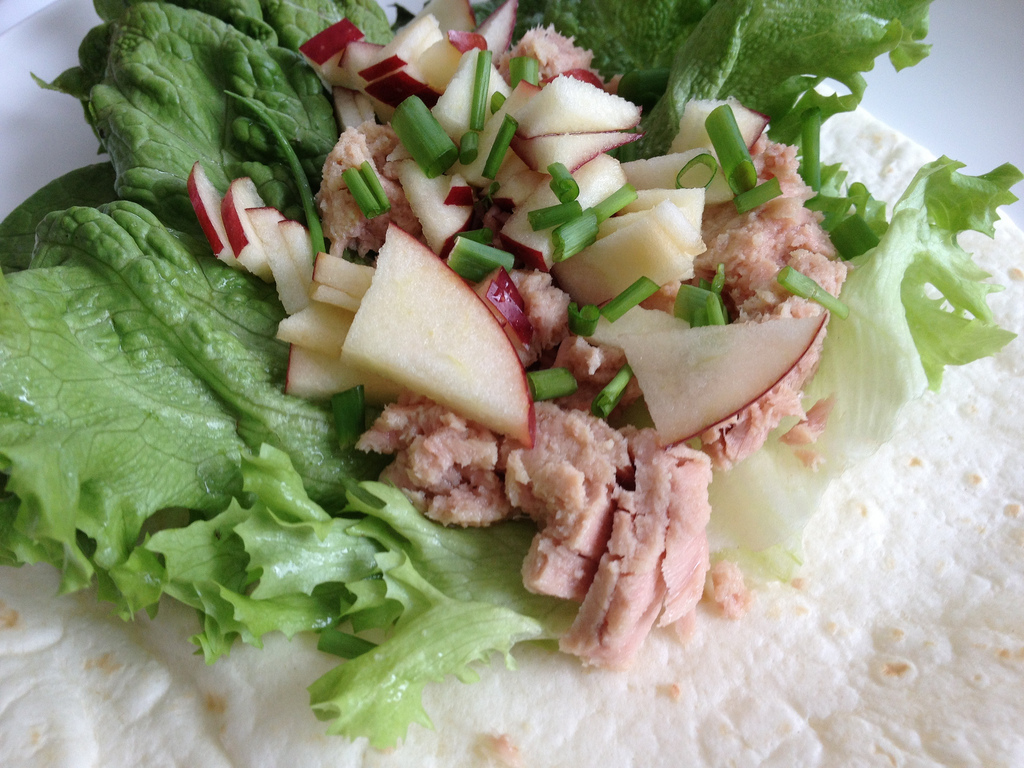chopped lettuce: (1, 1, 369, 670), (558, 1, 924, 144), (805, 185, 1009, 440)
slice of bread: (5, 561, 1021, 768)
